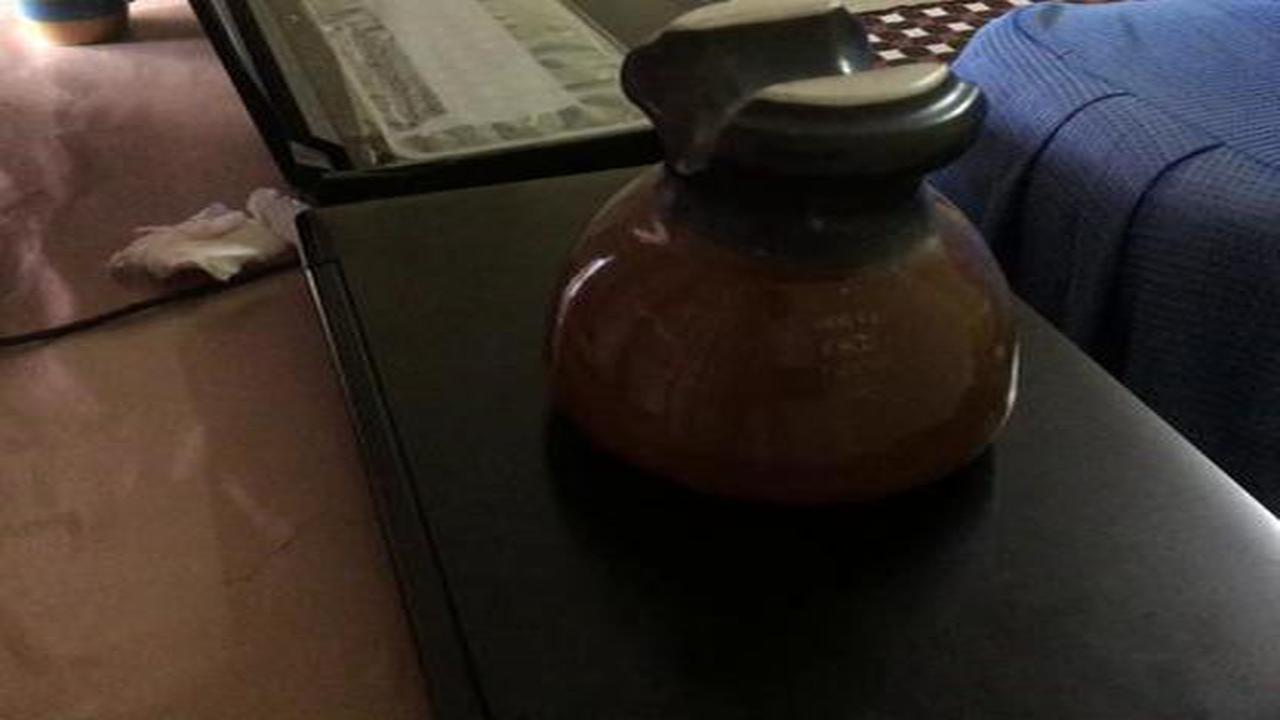insulator_pin: (527, 1, 1037, 509)
